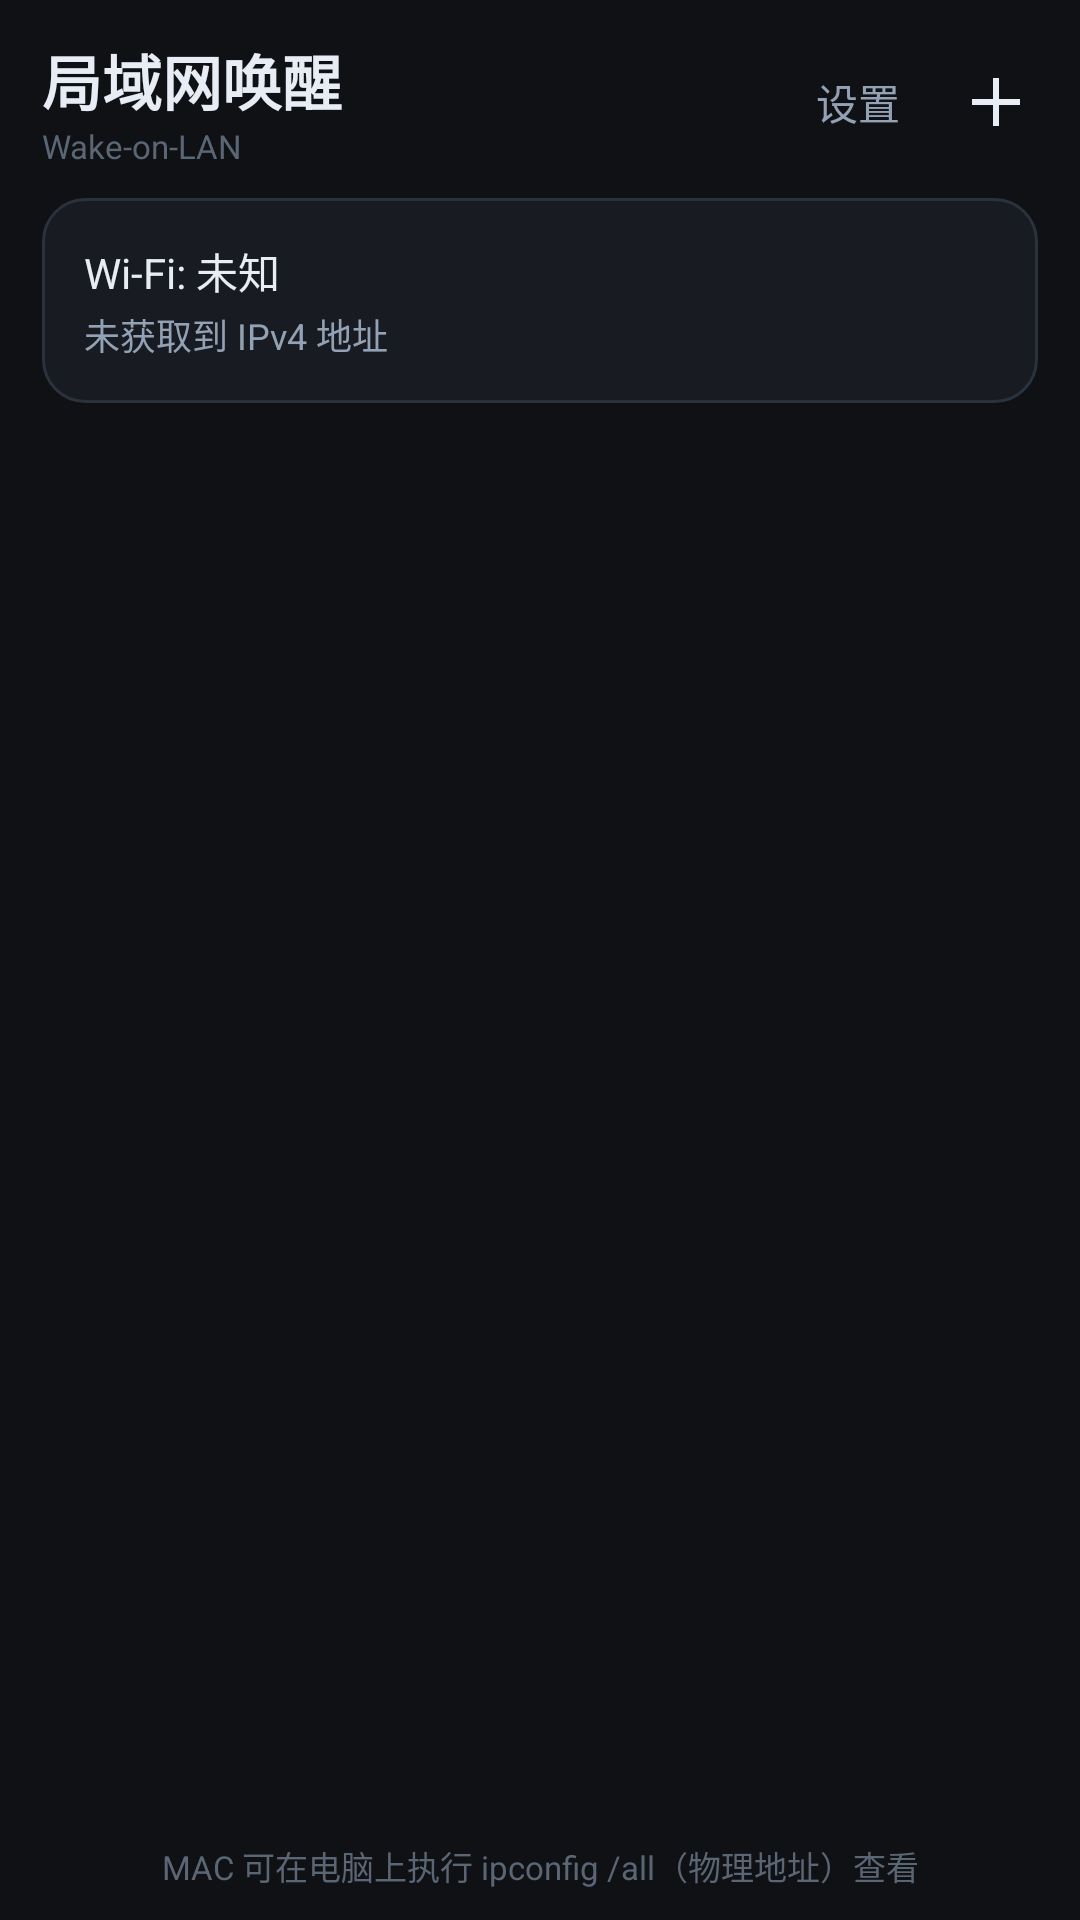

Icons on this 1080x1920 Android screen, each with its box as (x1, y1, x2, y2):
添加设备: (972, 78, 1020, 126)
